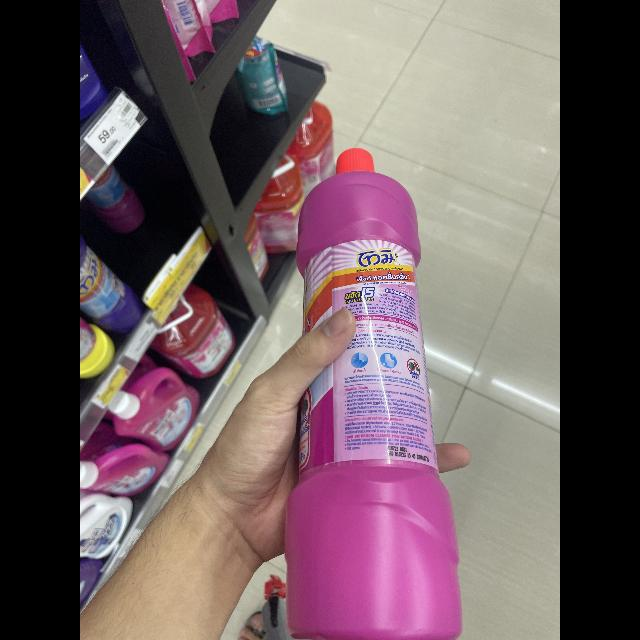chemical_plastic_bottle: (289, 138, 467, 640)
